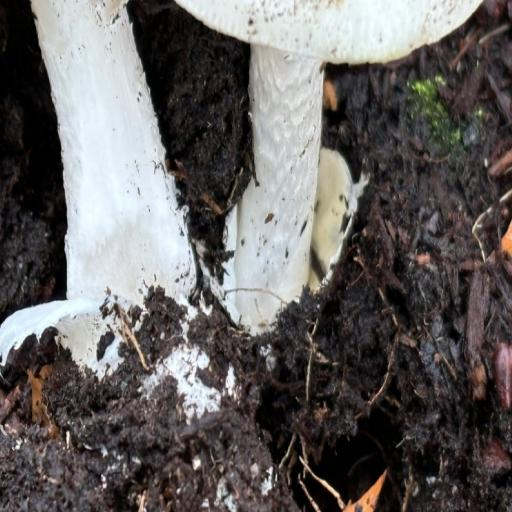Death Cap: (0, 0, 468, 413)
